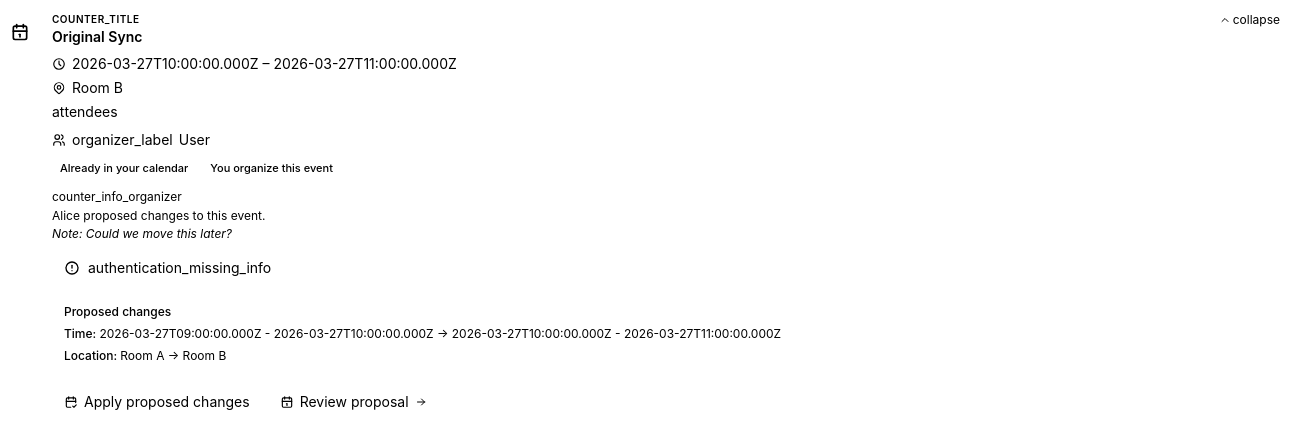
CalendarInvitationBanner › shows counter changes and lets organizers apply the proposal
Check: the text "Proposed changes" is shown, box [64, 304, 171, 319]
Check: the text "Location:" is shown, box [64, 348, 120, 363]
Click the button "Apply proposed changes" at (157, 402), box [52, 384, 262, 420]
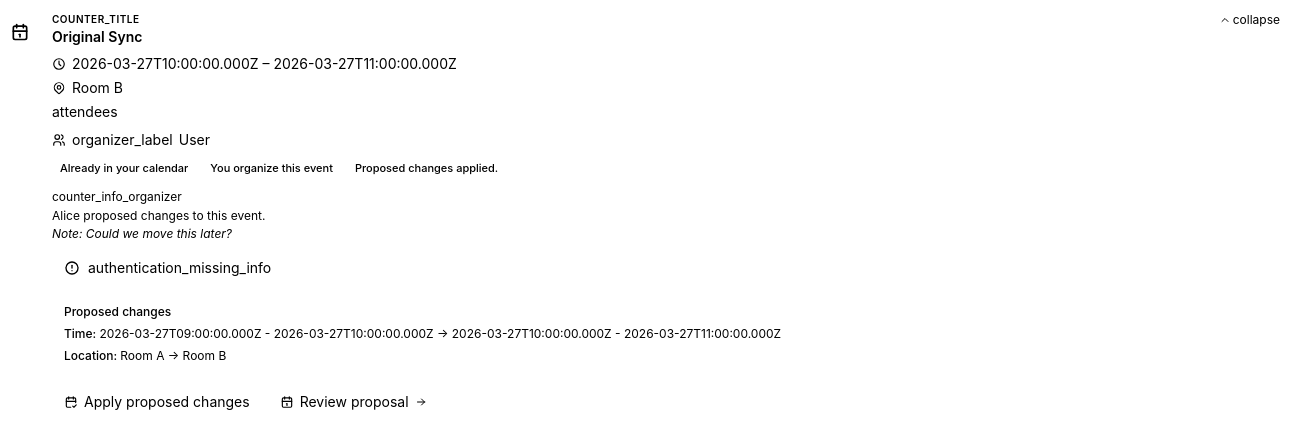
Check: the text "Proposed changes applied." is shown, box [347, 158, 506, 179]
